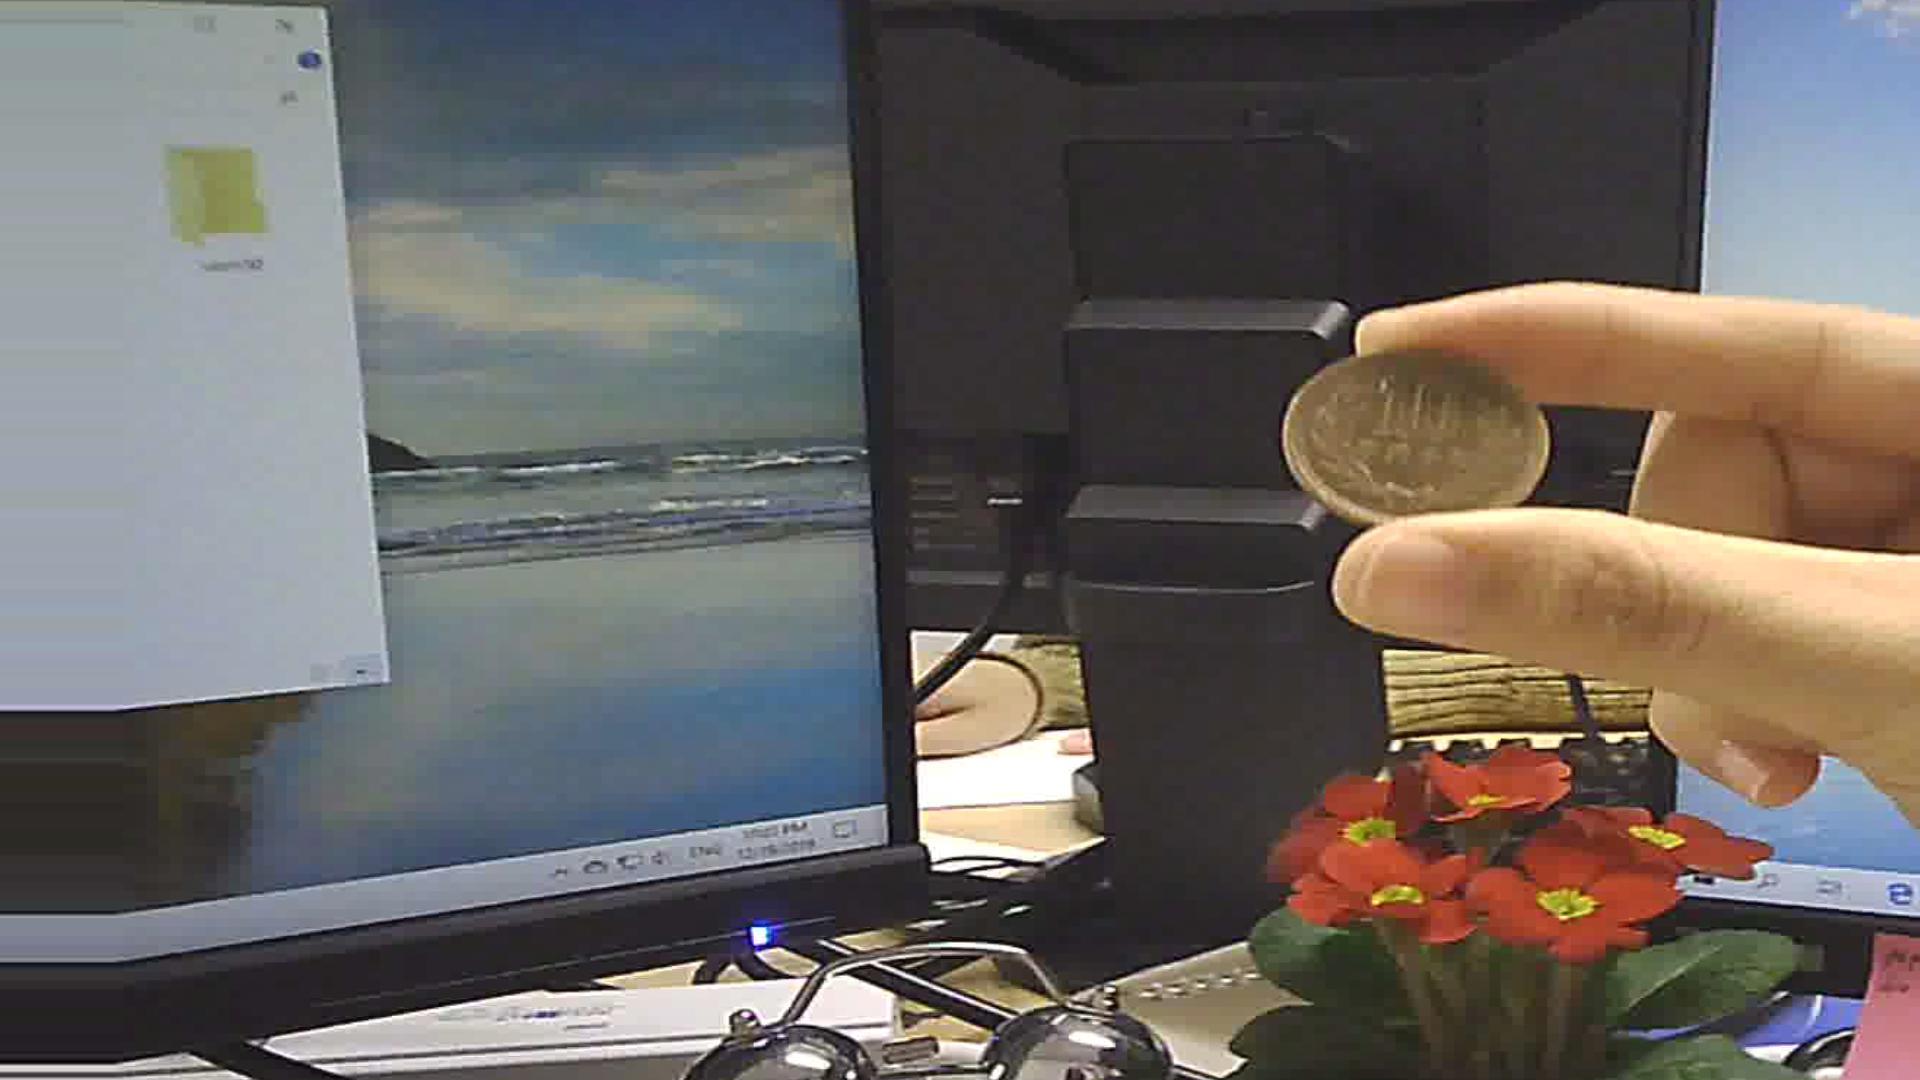10 Yen: (1273, 351, 1519, 513)
